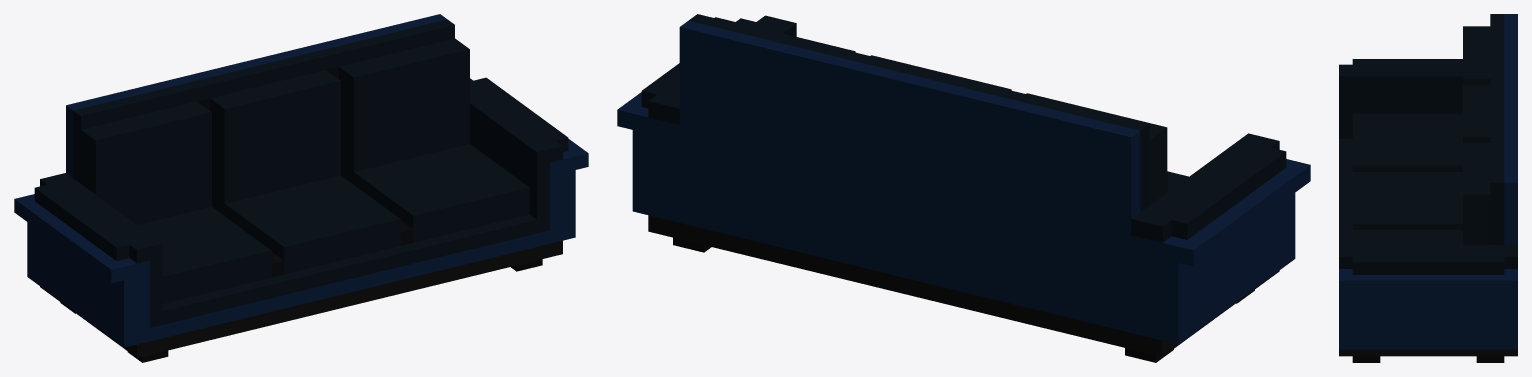
File: Triple Seat Sofa.FBX
3 views of the same model, side by side, from view 1: azimuth 30°, elevation 25°; view 2: azimuth 150°, elevation 25°; view 3: azimuth 270°, elevation 25° (orthographic). The views are drawn at different scales.
Visible parts, largest first — view 1: sofa 3 seat; view 2: sofa 3 seat; view 3: sofa 3 seat.
Part boxes in pixels (left/top/right/bottom): sofa 3 seat: left=14, top=14, right=588, bottom=362; sofa 3 seat: left=617, top=14, right=1310, bottom=362; sofa 3 seat: left=1339, top=14, right=1517, bottom=362.
Bounding box in the file's own units: 14.91 × 5.64 × 5.24.
